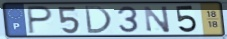3: (116, 5, 140, 34)
5: (57, 5, 82, 34), (174, 5, 198, 34)
D: (82, 5, 114, 35)
N: (143, 5, 173, 34)
P: (26, 5, 54, 35)
